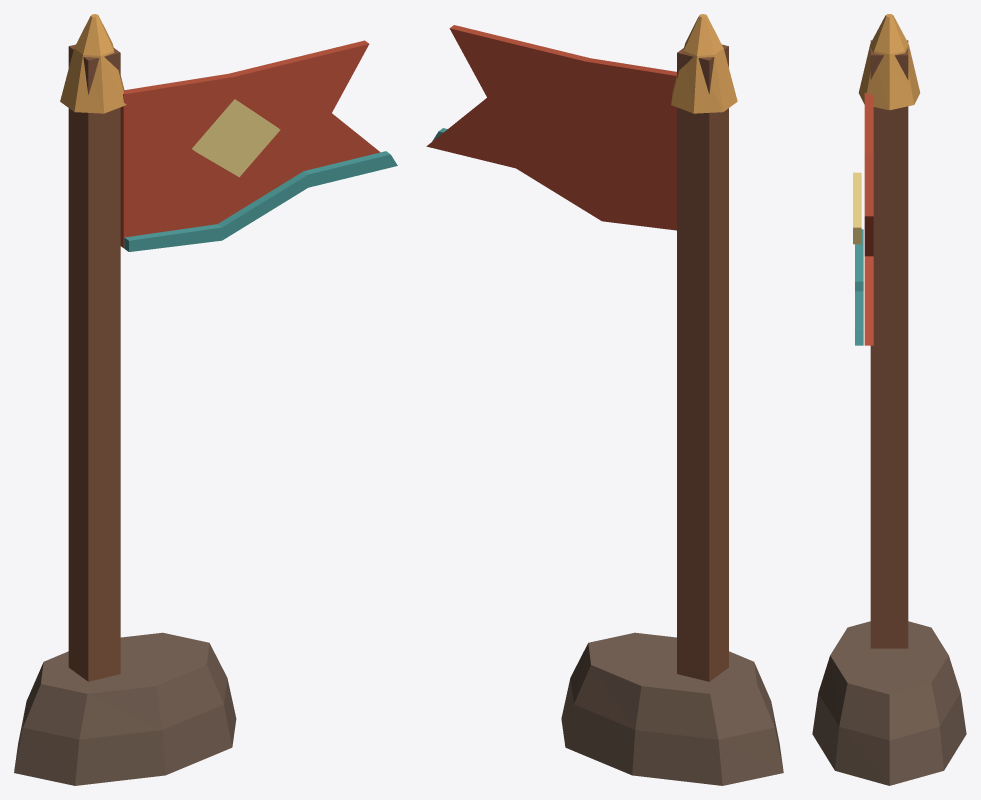
Rendered from natlan-race-flag-model.obj.
The picture shows the model from 3 angles, left to right: view 1: azimuth 30°, elevation 25°; view 2: azimuth 150°, elevation 25°; view 3: azimuth 270°, elevation 25°; orthographic projection. The views are drawn at different scales.
Visible parts, largest first — view 1: NatlanRaceFlag; view 2: NatlanRaceFlag; view 3: NatlanRaceFlag.
Boxes of the visible parts, x1=… form: NatlanRaceFlag: x1=14, y1=14, x2=397, y2=785; NatlanRaceFlag: x1=426, y1=14, x2=783, y2=785; NatlanRaceFlag: x1=812, y1=14, x2=966, y2=785.
Bounding box in the file's own units: 2.04 × 3.93 × 0.78.
